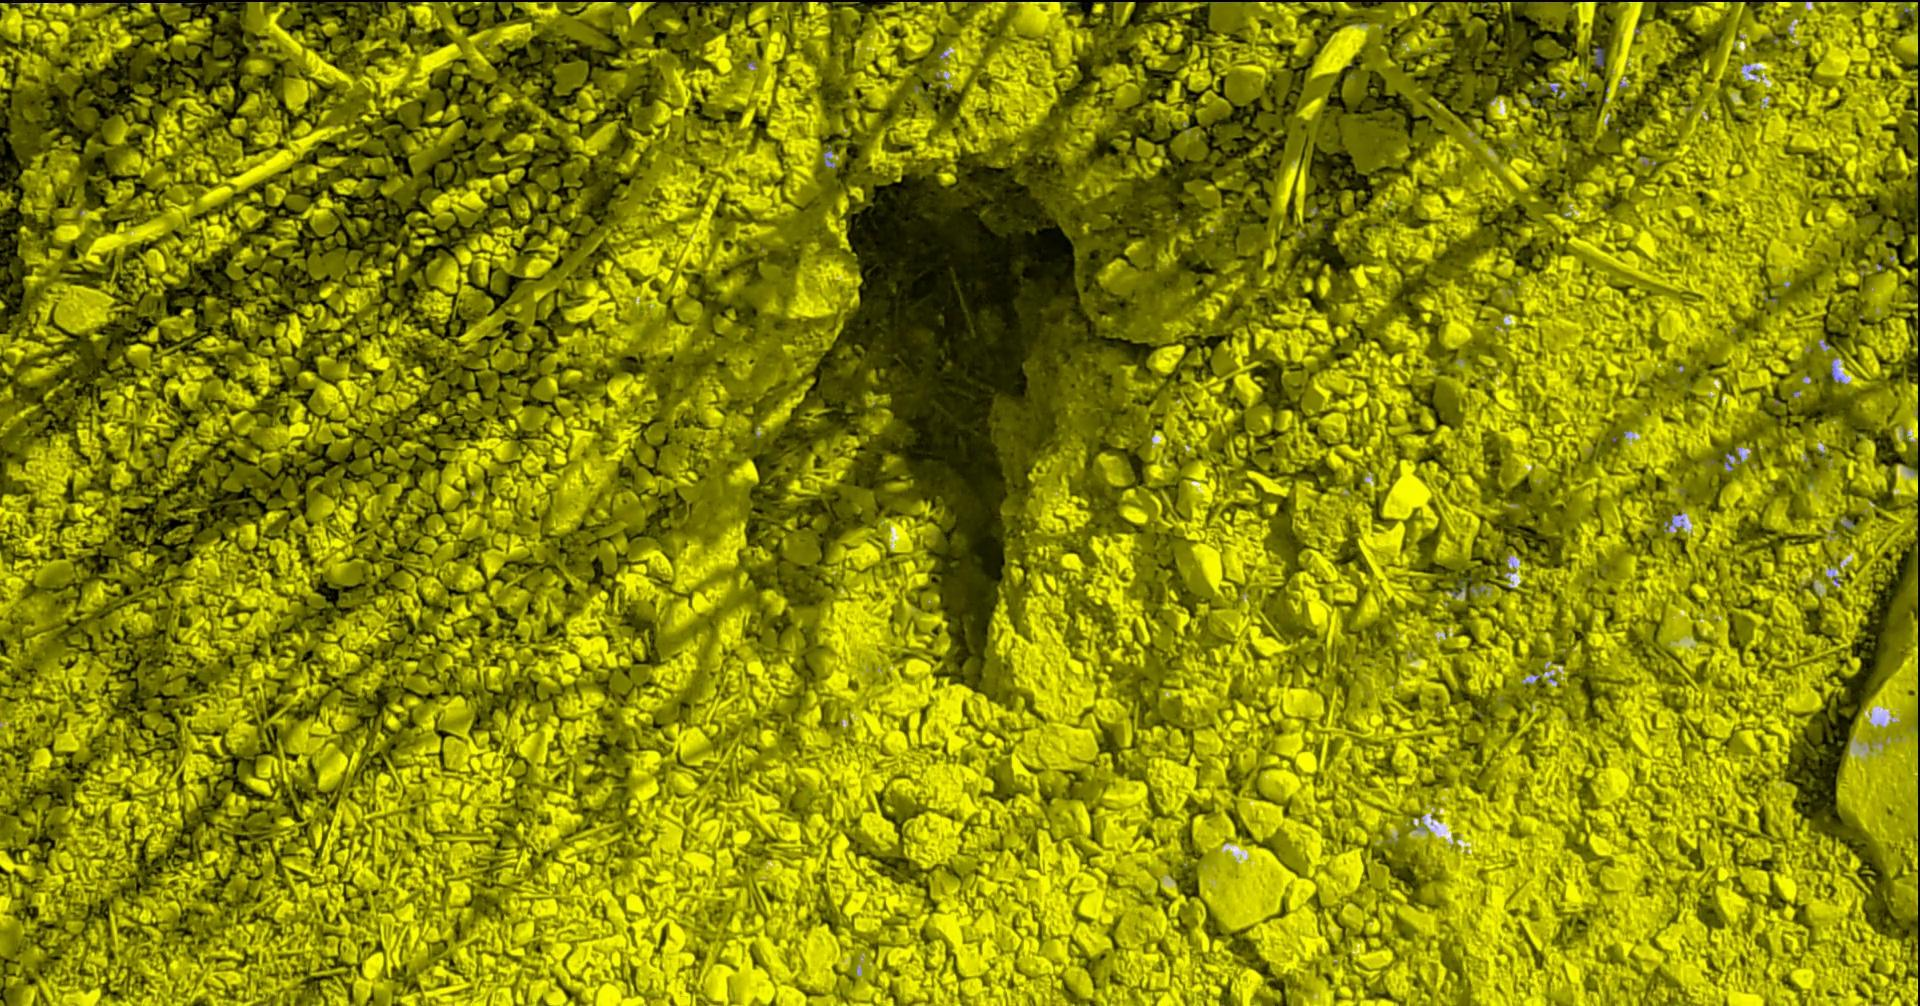ant: (1595, 46, 1606, 66)
